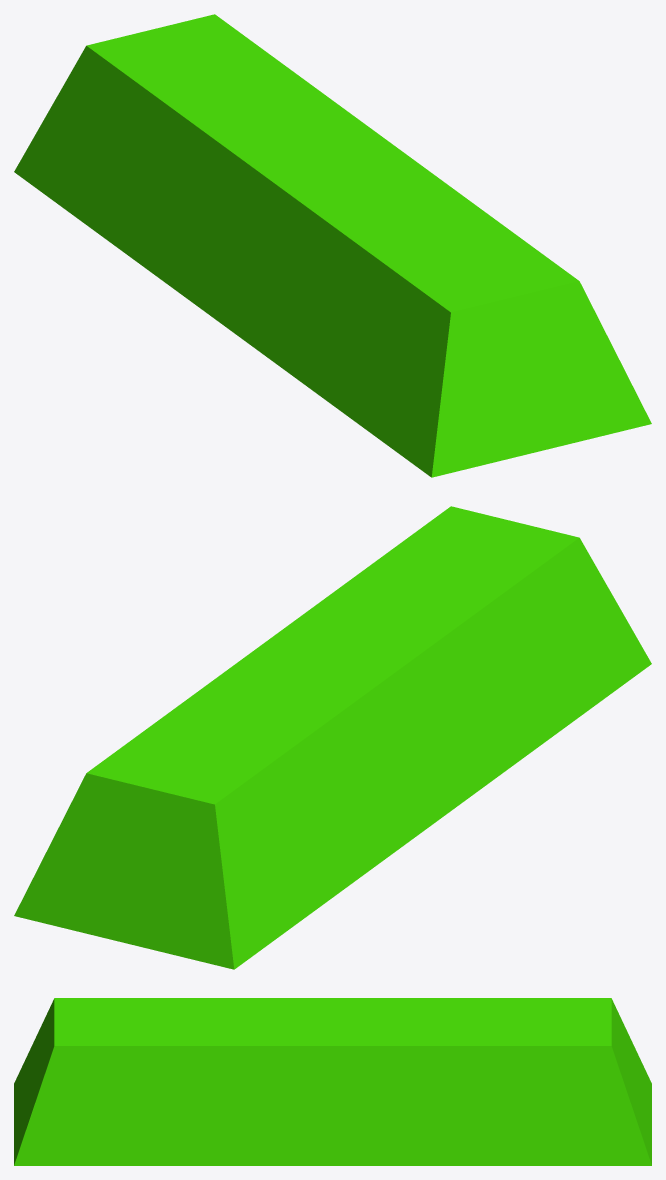
File: Gamma Ingot.fbx
3 views of the same model, one above another, from view 1: azimuth 30°, elevation 25°; view 2: azimuth 150°, elevation 25°; view 3: azimuth 270°, elevation 25° (orthographic). The views are drawn at different scales.
Parts seen in each view (by area): view 1: Cube; view 2: Cube; view 3: Cube.
Part boxes in pixels (box(x1,y1,x2,y2)): Cube: box(14, 14, 651, 477); Cube: box(14, 506, 651, 969); Cube: box(14, 998, 651, 1165).
Size of the model in its own units: 29.72 by 17.35 by 97.6.
